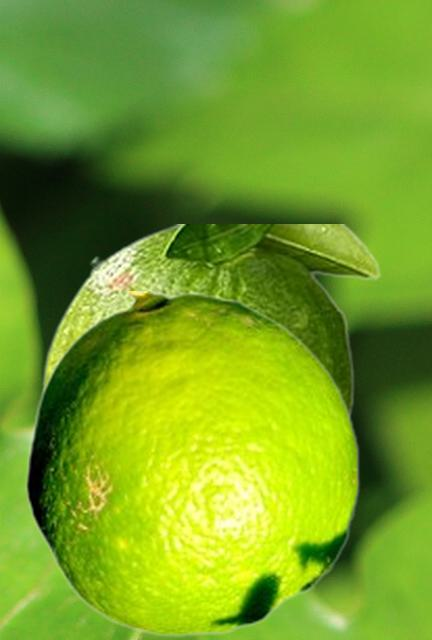dalandan: (25, 291, 359, 636), (41, 224, 380, 420)
